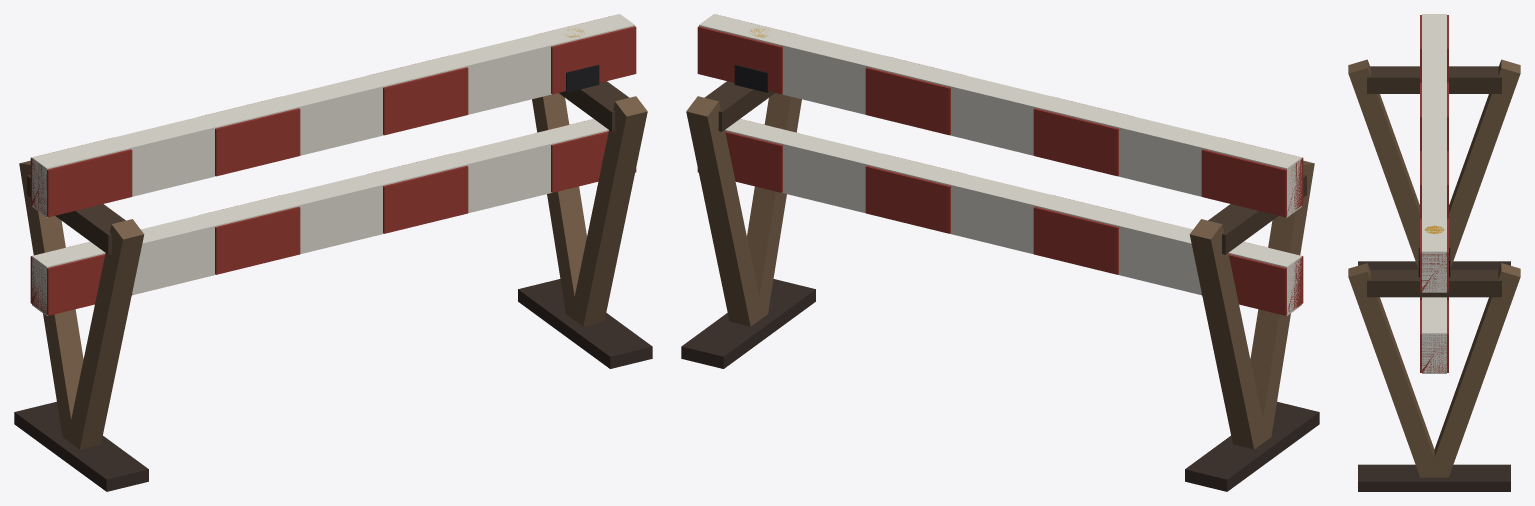
The model's file is police_barricade.glb.
The picture shows the model from 3 angles, left to right: view 1: azimuth 30°, elevation 25°; view 2: azimuth 150°, elevation 25°; view 3: azimuth 270°, elevation 25°; orthographic projection. The views are drawn at different scales.
Parts seen in each view (by area): view 1: police_barricade; view 2: police_barricade; view 3: police_barricade.
Part boxes in pixels (x1=…): police_barricade: x1=14, y1=14, x2=652, y2=491; police_barricade: x1=681, y1=14, x2=1319, y2=491; police_barricade: x1=1348, y1=14, x2=1520, y2=491.
Size of what is drawn, in the model's own units: 2.5 by 1.23 by 0.7654.
2 materials, 2 textured.
